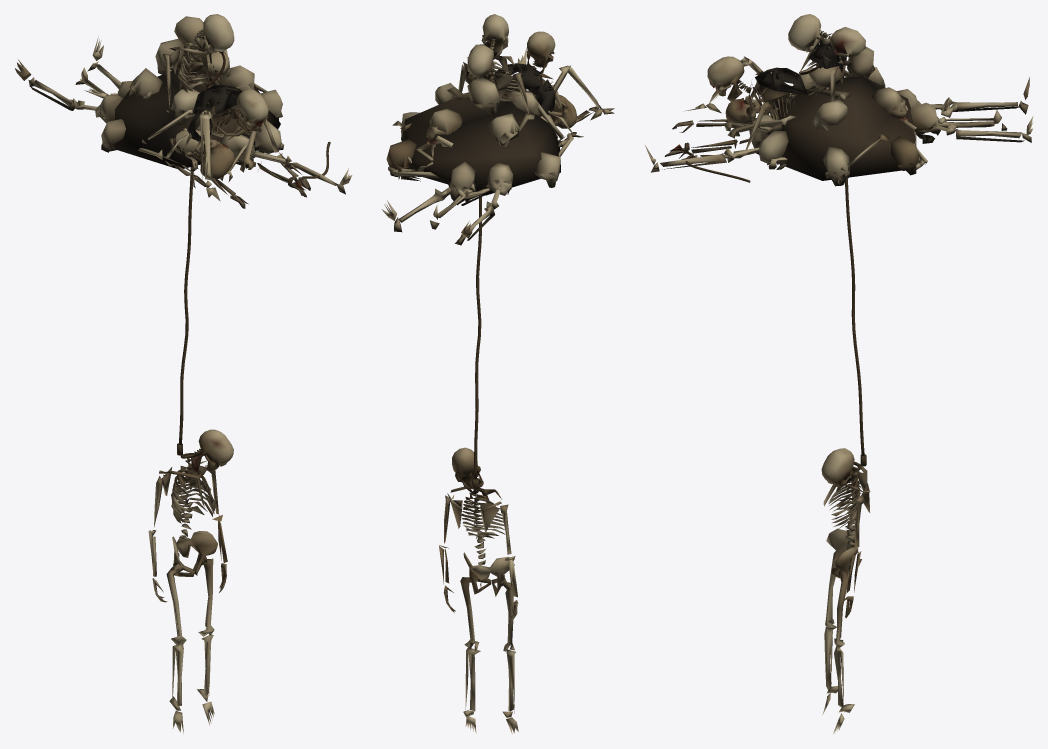
The model's file is bones.glb.
The picture shows the model from 3 angles, left to right: view 1: azimuth 30°, elevation 25°; view 2: azimuth 150°, elevation 25°; view 3: azimuth 270°, elevation 25°; orthographic projection.
Parts seen in each view (by area): view 1: Bones_SkullPile, Bones_Hanging, Bones_SittingWall, Bones_Crawler, Bones_LyingA, Bones_LyingB; view 2: Bones_SkullPile, Bones_Hanging, Bones_SittingWall, Bones_Crawler, Bones_LyingA, Bones_LyingB; view 3: Bones_SkullPile, Bones_Hanging, Bones_Crawler, Bones_SittingWall, Bones_LyingA.
Part boxes in pixels (bbox=[...]): Bones_SkullPile: bbox=[95, 16, 282, 181]; Bones_Hanging: bbox=[148, 167, 233, 733]; Bones_SittingWall: bbox=[163, 14, 352, 201]; Bones_Crawler: bbox=[75, 67, 310, 208]; Bones_LyingA: bbox=[15, 36, 330, 197]; Bones_LyingB: bbox=[84, 69, 206, 187]; Bones_SkullPile: bbox=[386, 44, 568, 205]; Bones_Hanging: bbox=[439, 195, 518, 733]; Bones_SittingWall: bbox=[458, 14, 614, 120]; Bones_Crawler: bbox=[430, 31, 601, 229]; Bones_LyingA: bbox=[381, 90, 577, 245]; Bones_LyingB: bbox=[388, 114, 583, 205]; Bones_SkullPile: bbox=[723, 27, 940, 186]; Bones_Hanging: bbox=[821, 178, 870, 733]; Bones_Crawler: bbox=[672, 56, 1007, 159]; Bones_SittingWall: bbox=[645, 14, 844, 172]; Bones_LyingA: bbox=[664, 77, 1033, 182].
Size of the model in its own units: 1.1 by 4.34 by 2.14.
